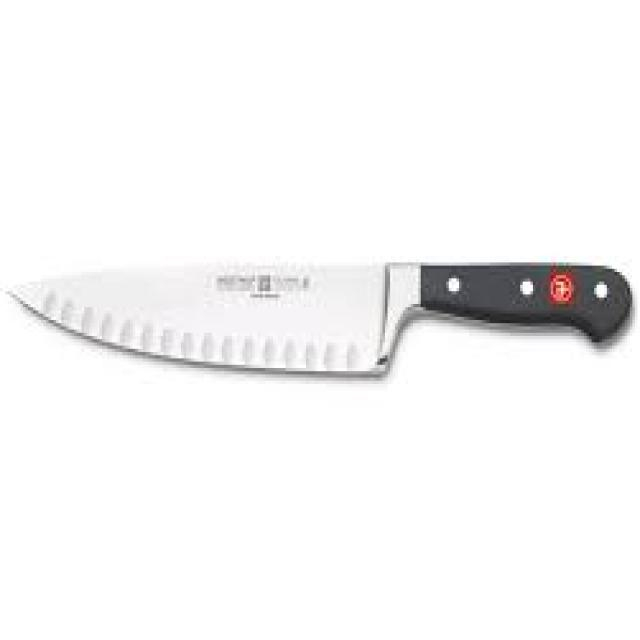Knife: (5, 256, 632, 378)
